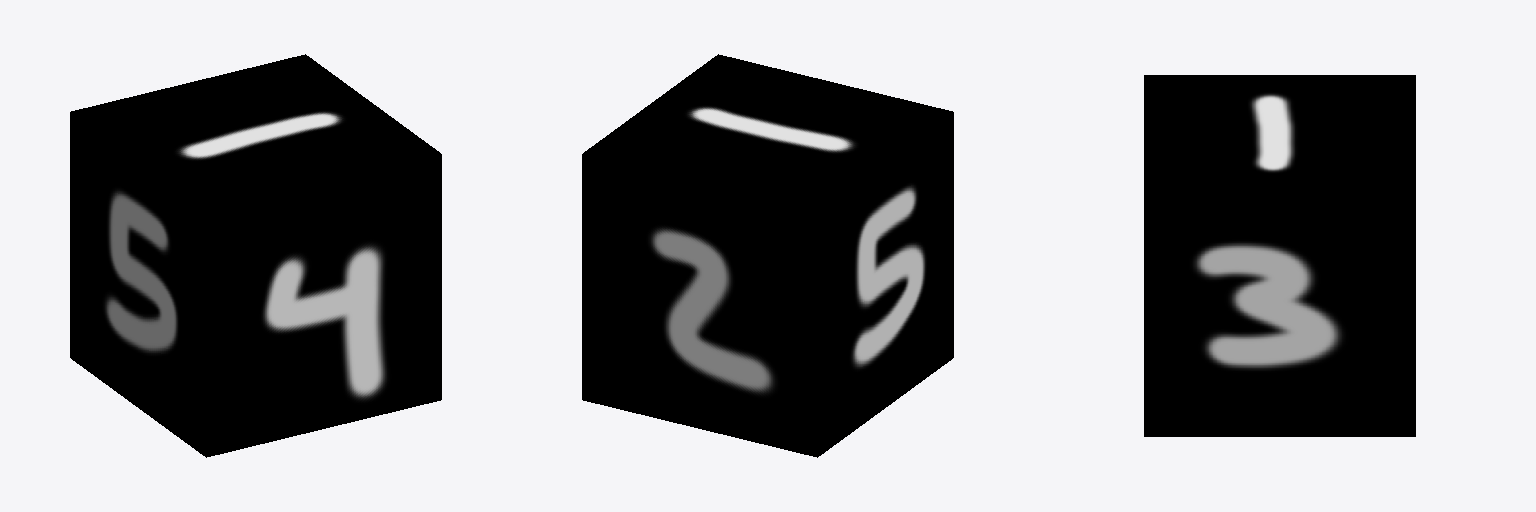
The picture shows the model from 3 angles: view 1: azimuth 30°, elevation 25°; view 2: azimuth 150°, elevation 25°; view 3: azimuth 270°, elevation 25°; orthographic projection.
Visible parts, largest first — view 1: Cube_Cube.001; view 2: Cube_Cube.001; view 3: Cube_Cube.001.
Boxes of the visible parts, box(x1,y1,x2,y2) form: Cube_Cube.001: box(70, 54, 441, 457); Cube_Cube.001: box(582, 54, 953, 457); Cube_Cube.001: box(1144, 75, 1415, 436).
Bounding box in the file's own units: 2 × 2 × 2.
1 materials, 1 textured.